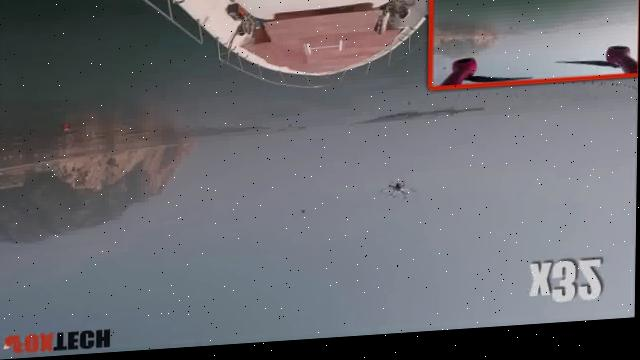drone: (376, 177, 419, 213)
